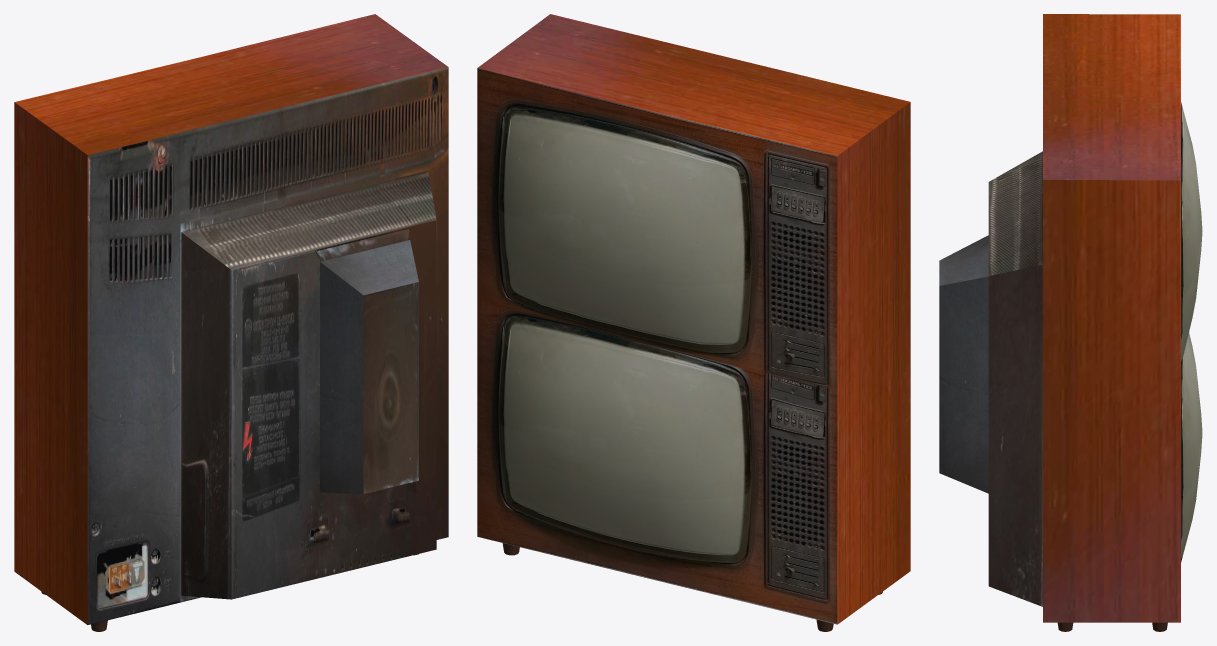
3 renders of one model, left to right at view 1: azimuth 30°, elevation 25°; view 2: azimuth 150°, elevation 25°; view 3: azimuth 270°, elevation 25°, orthographic. The views are drawn at different scales.
Visible parts, largest first — view 1: Cube.033; view 2: Cube.033; view 3: Cube.033.
Boxes of the visible parts, left/top/right/bottom form: Cube.033: left=14, top=14, right=448, bottom=631; Cube.033: left=477, top=14, right=910, bottom=631; Cube.033: left=939, top=14, right=1202, bottom=631.
Size of the model in its own units: 128 by 166 by 85.89.
Materials: 1 (1 with a texture image).
